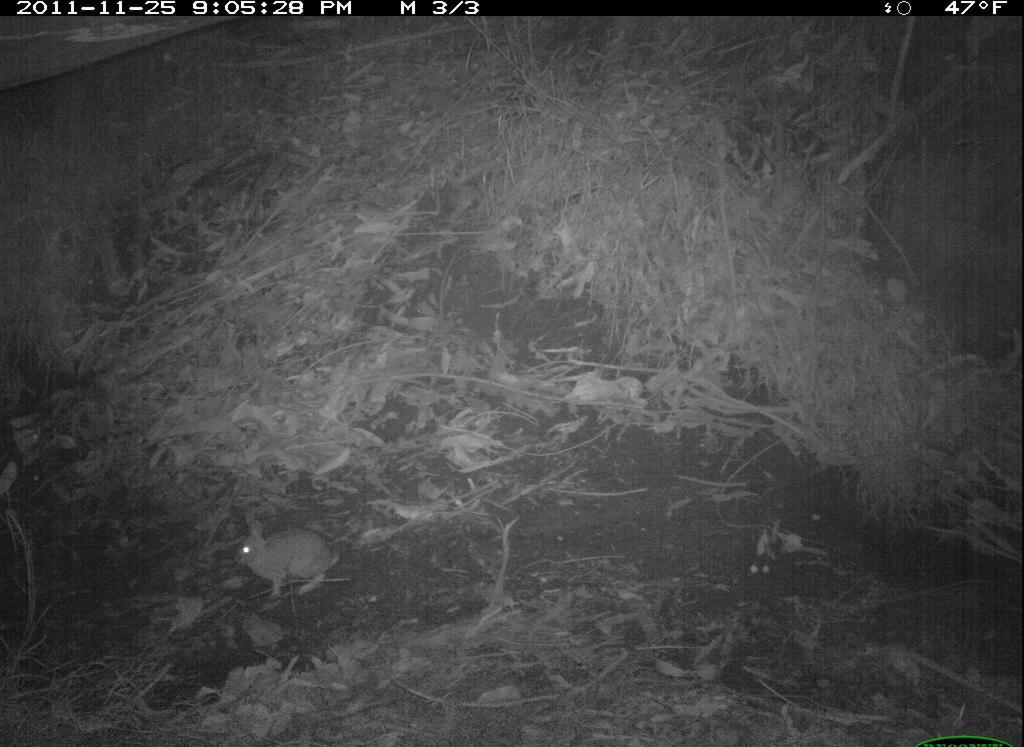rabbit: (223, 509, 347, 615)
